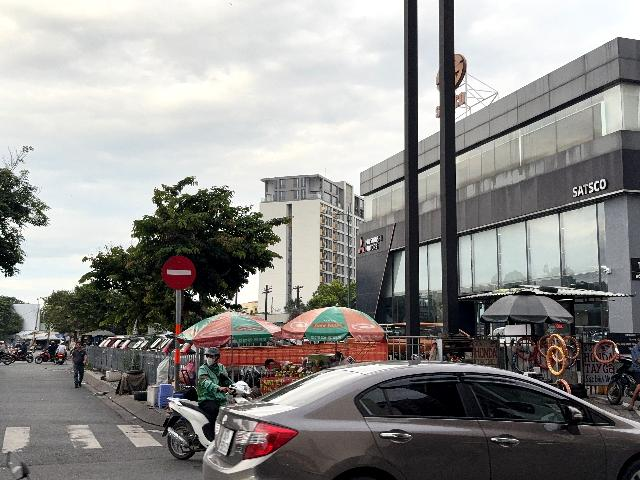cam-di-nguoc-chieu: (162, 255, 196, 290)
